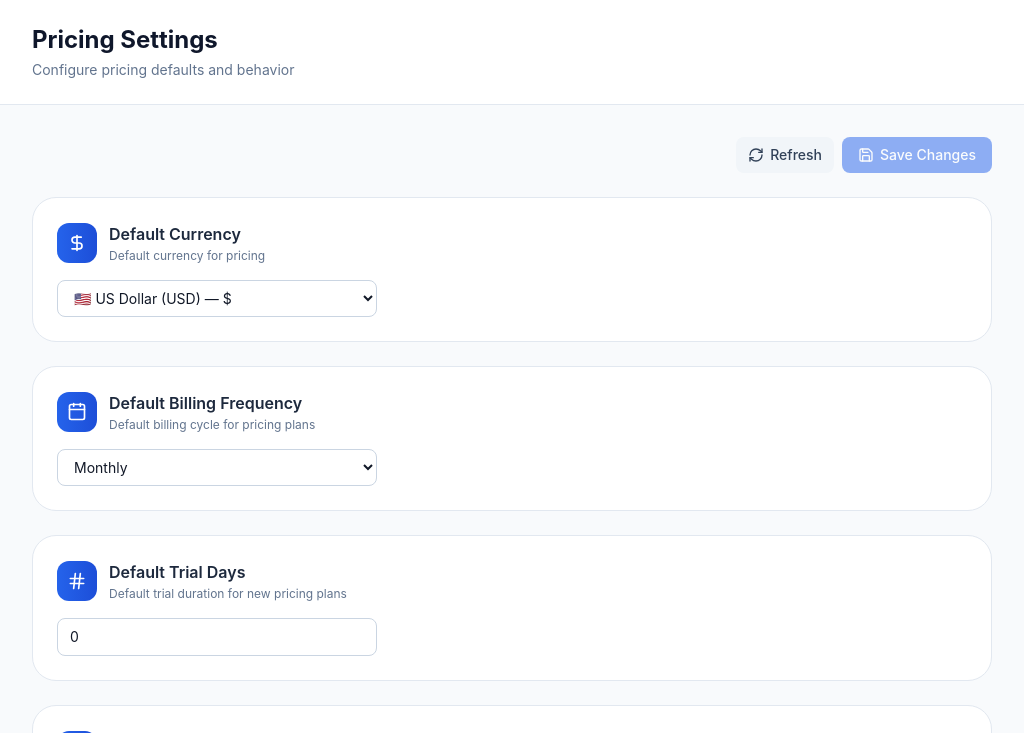
Test case: BUG-11.2 Pricing Settings › confirming the prompt refetches and resets the form to the saved values
Replace the text in the number field labelled "Default Trial Days" with "14": (217, 637) [57, 618, 377, 656]
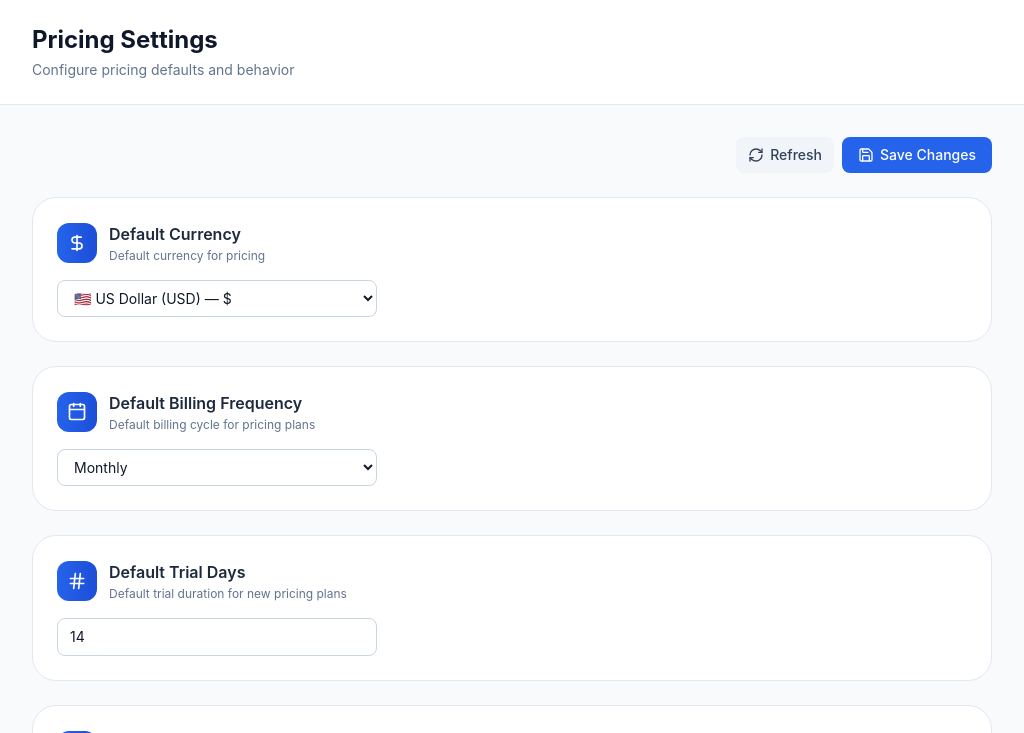
Click the button "Refresh": (785, 155) [736, 137, 834, 173]
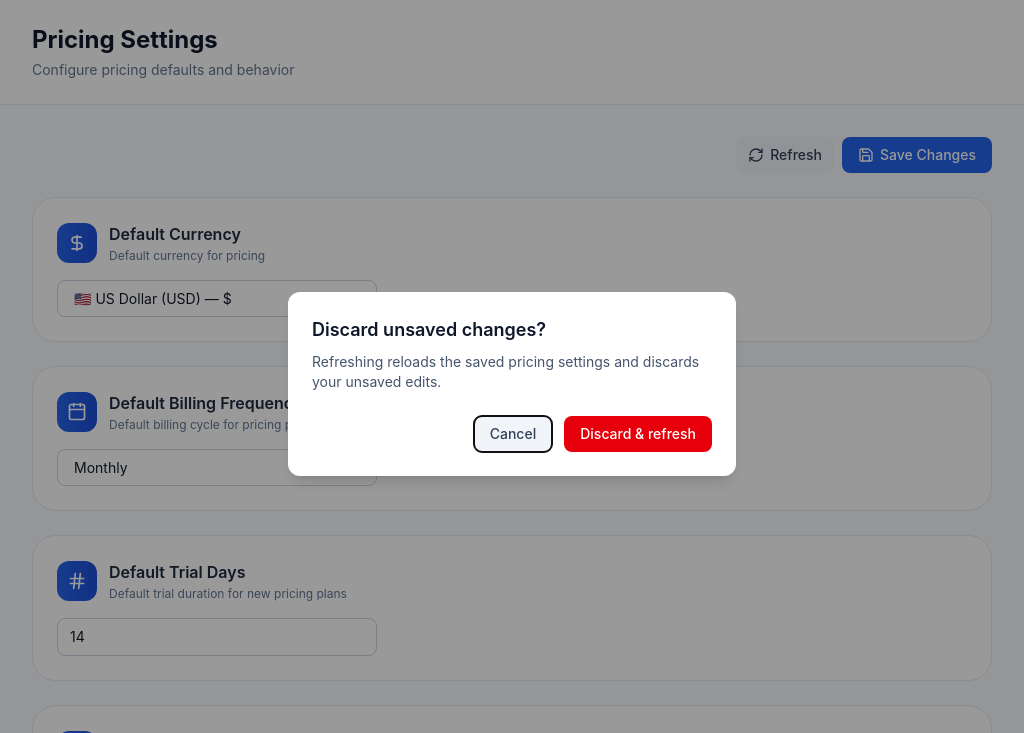
Click the button "Discard & refresh": (638, 434) [564, 416, 712, 452]
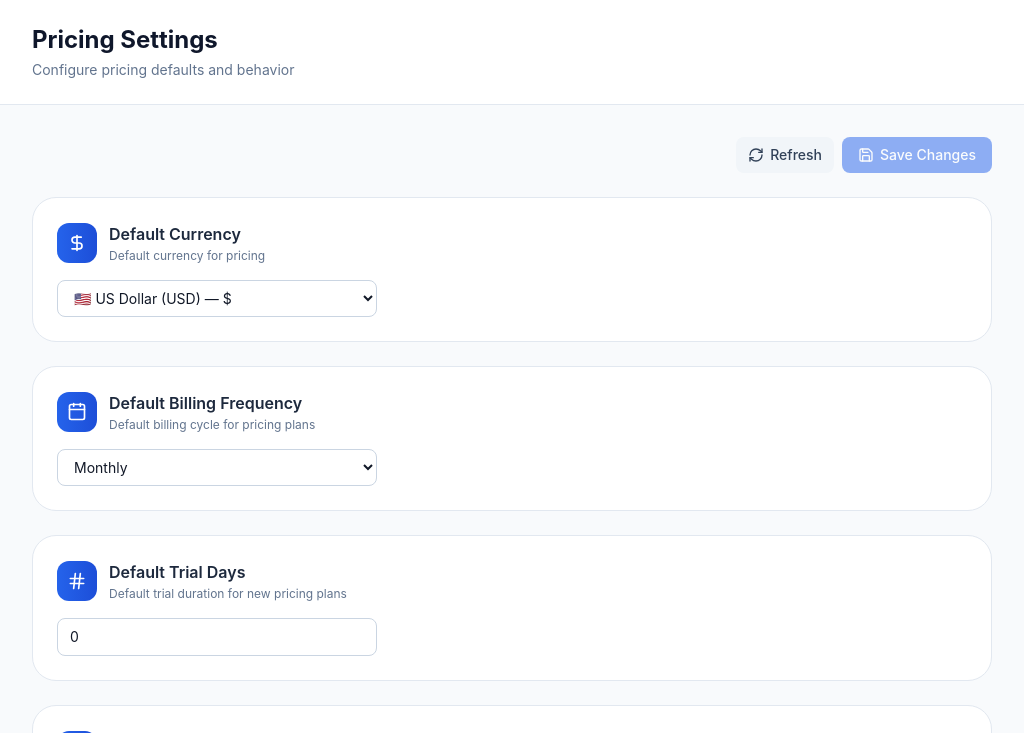
Expected: the number field labelled "Default Trial Days" holds "0", [57, 618, 377, 656]
Expected: the button "Save Changes" is disabled, [842, 137, 992, 173]
